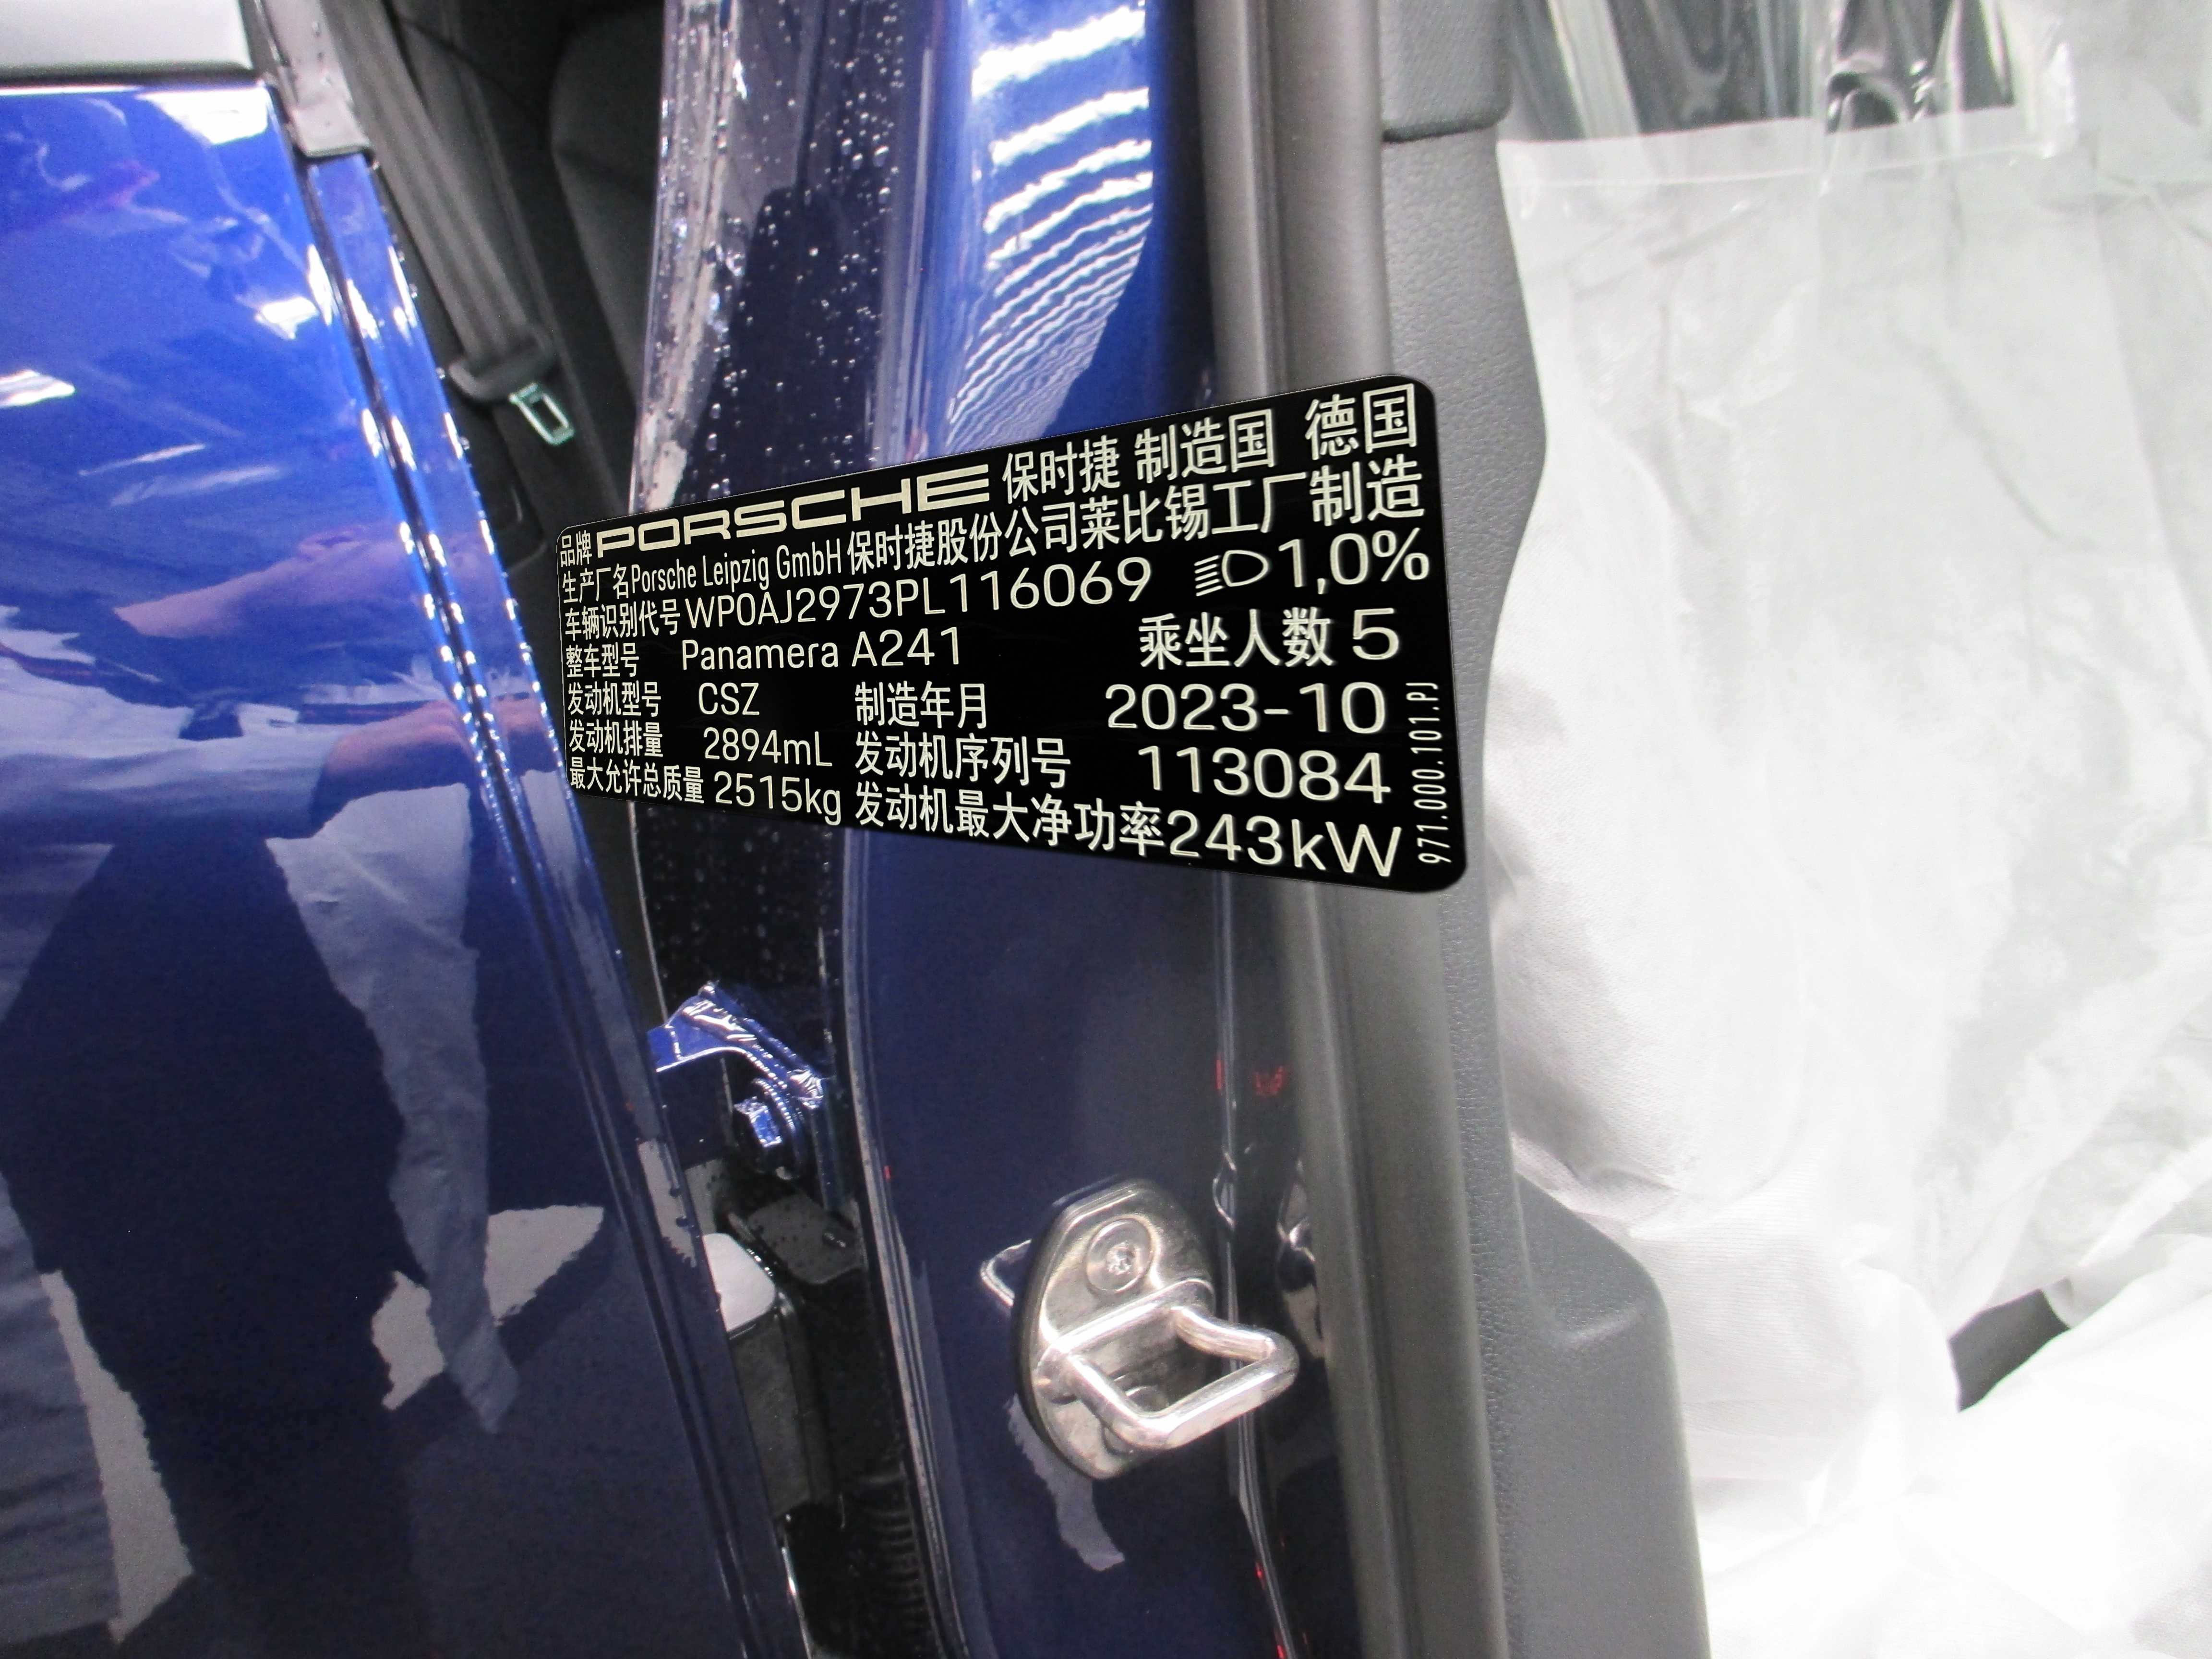Typlabel-China: (556, 375, 1467, 892)
